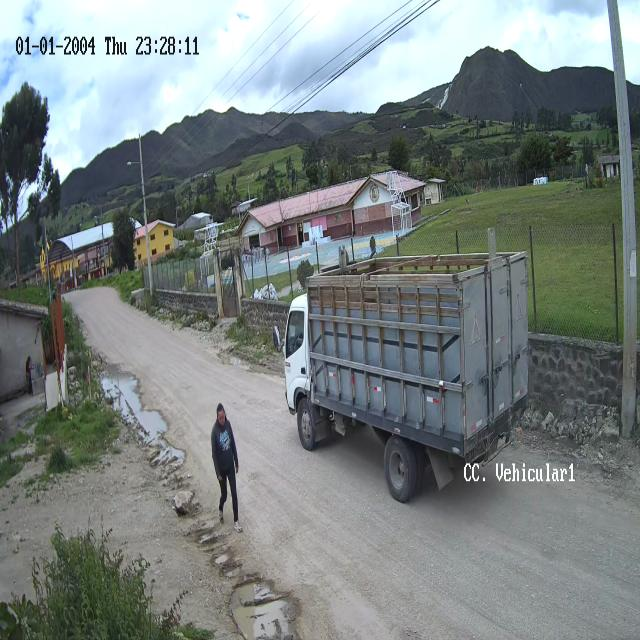TRUCK: (274, 252, 533, 504)
